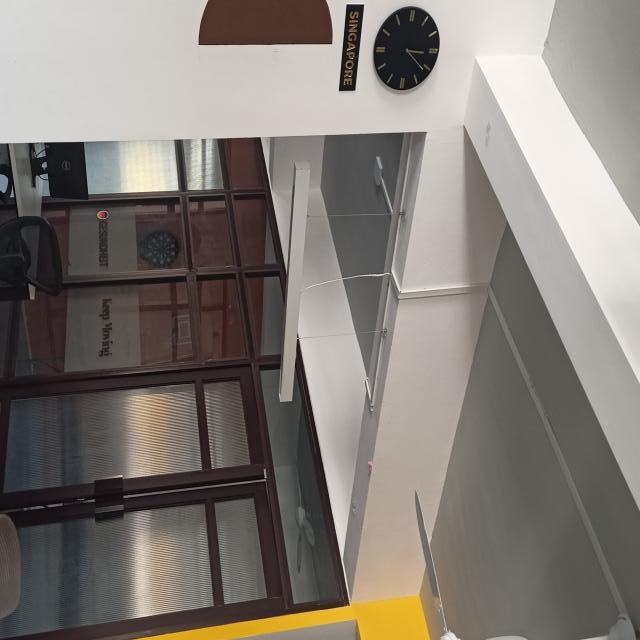fluorescent tube: (274, 154, 314, 405)
